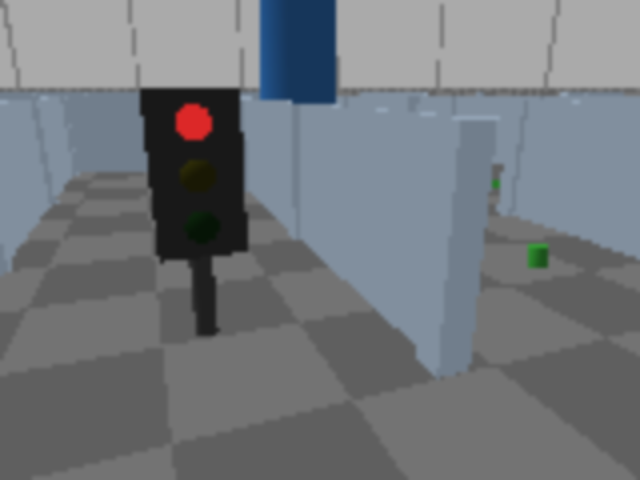puck: (530, 244, 547, 268)
traffic_light: (137, 71, 253, 358)
